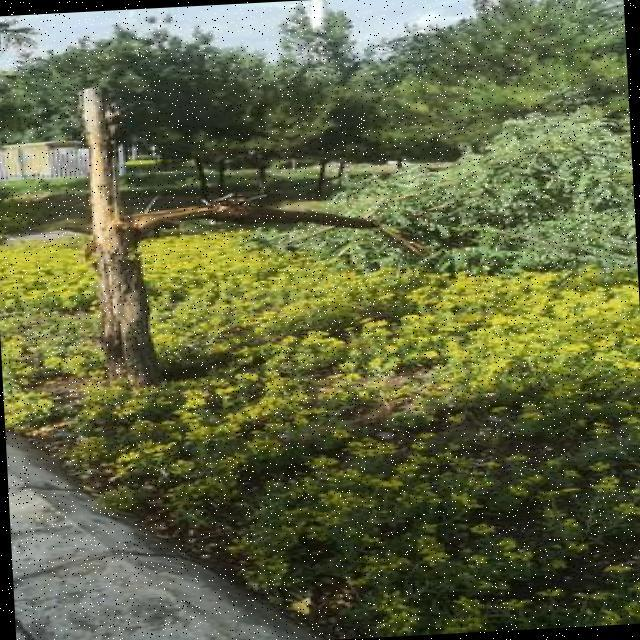fallen_object: (104, 114, 636, 268)
